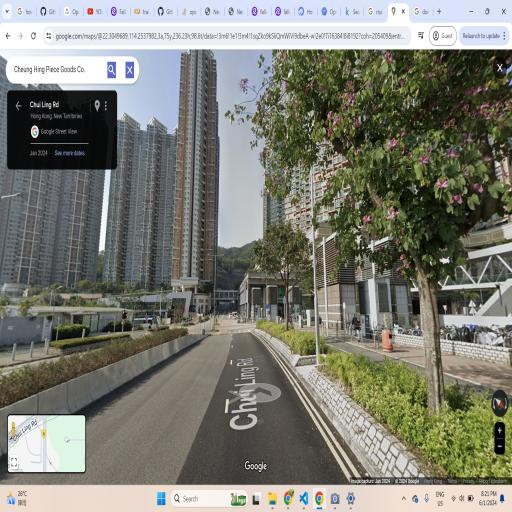Roads: (103, 333, 355, 470)
Trees: (248, 206, 321, 344)
